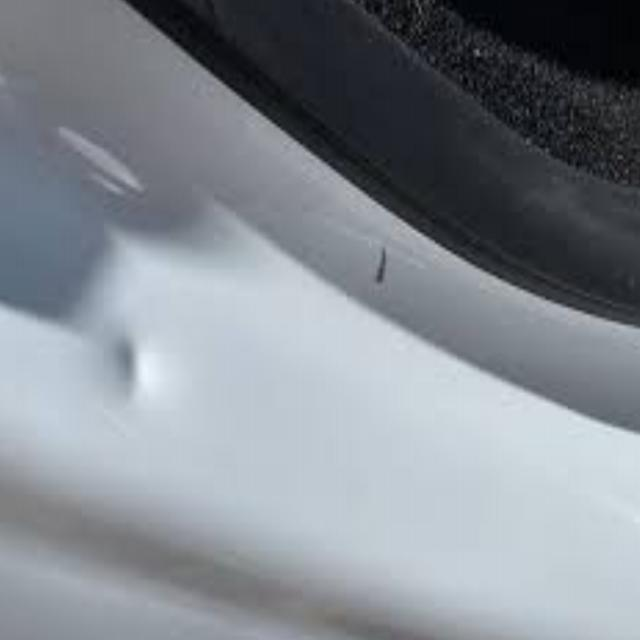dents: (78, 259, 202, 476)
